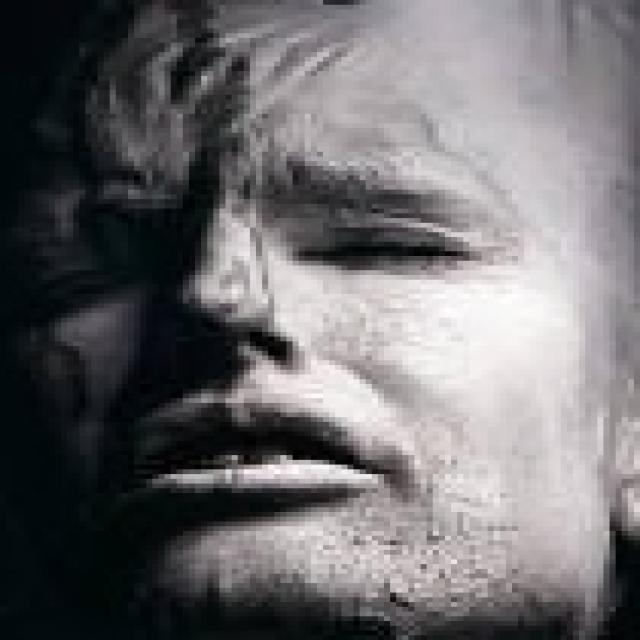Anxiety: (6, 0, 629, 635)
